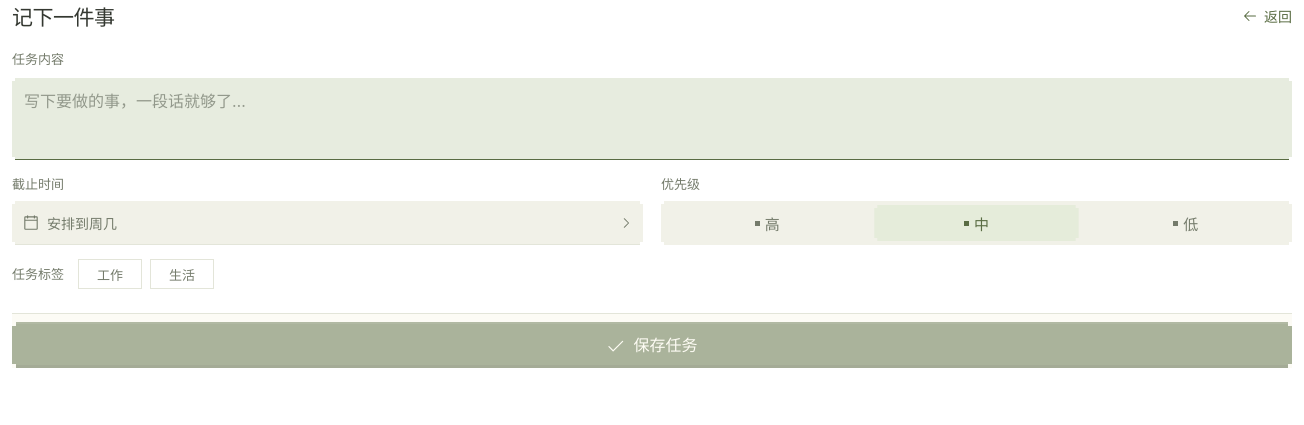
it: keeps the user draft visible when saving fails
In the text box labelled "任务内容": (652, 119) [12,78,1292,160], type "保留这份草稿"
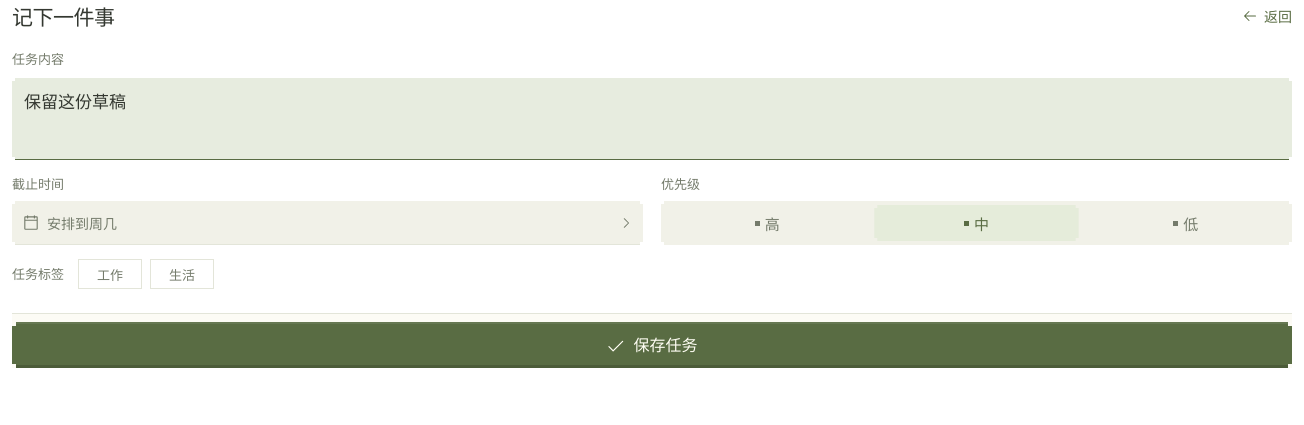
Click the button "保存任务": (652, 345) [12,322,1292,368]
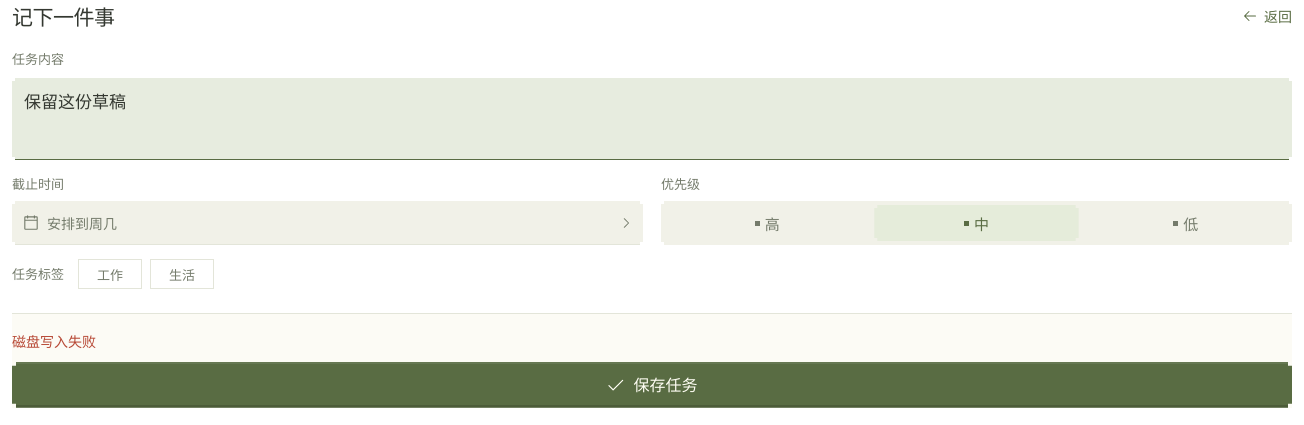
Now the message reads "磁盘写入失败", box [12,333,96,350]
